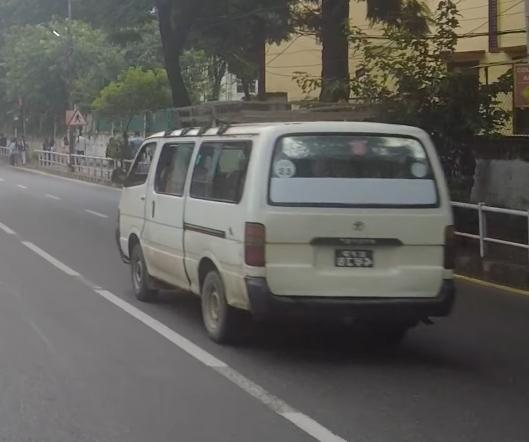van: (115, 96, 461, 333)
